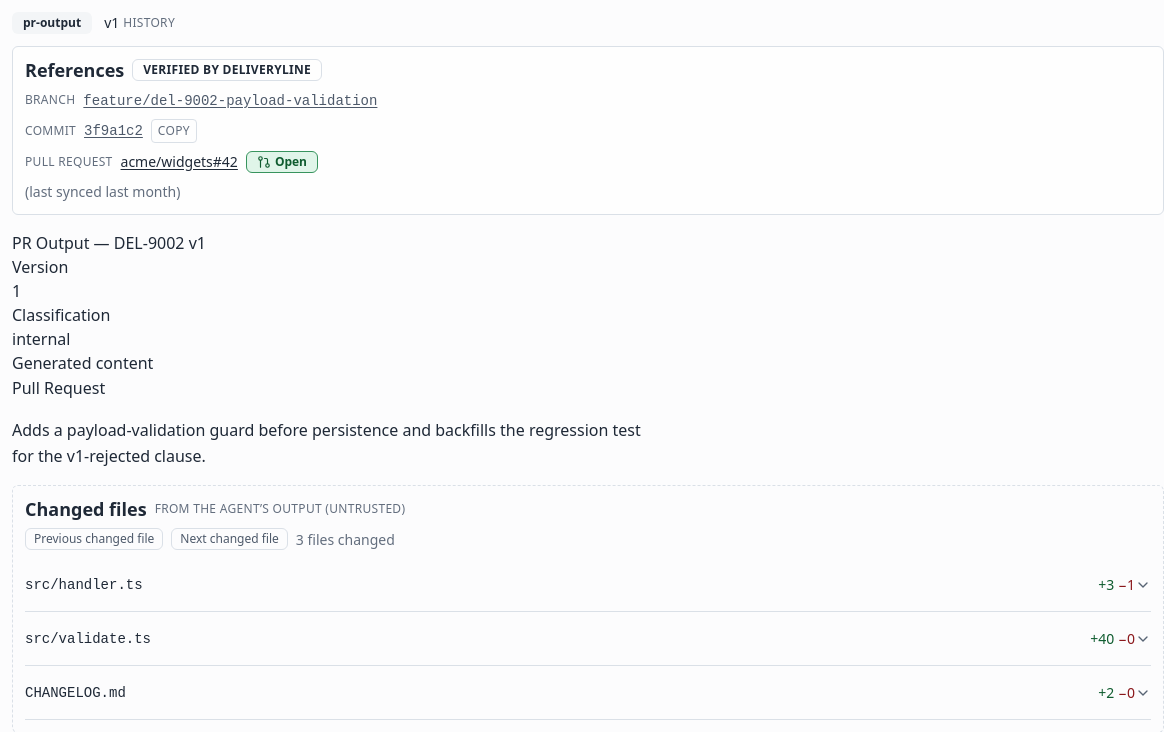
Test case: PrOutputArtifactRenderer › AC2 — the diff renders file-by-file with <ins>/<del> + token classes when expanded
The image size is (1164, 732).
Click the button with test id "pr-diff-file-trigger-0" at [84, 584], box left=25, top=558, right=1151, bottom=611
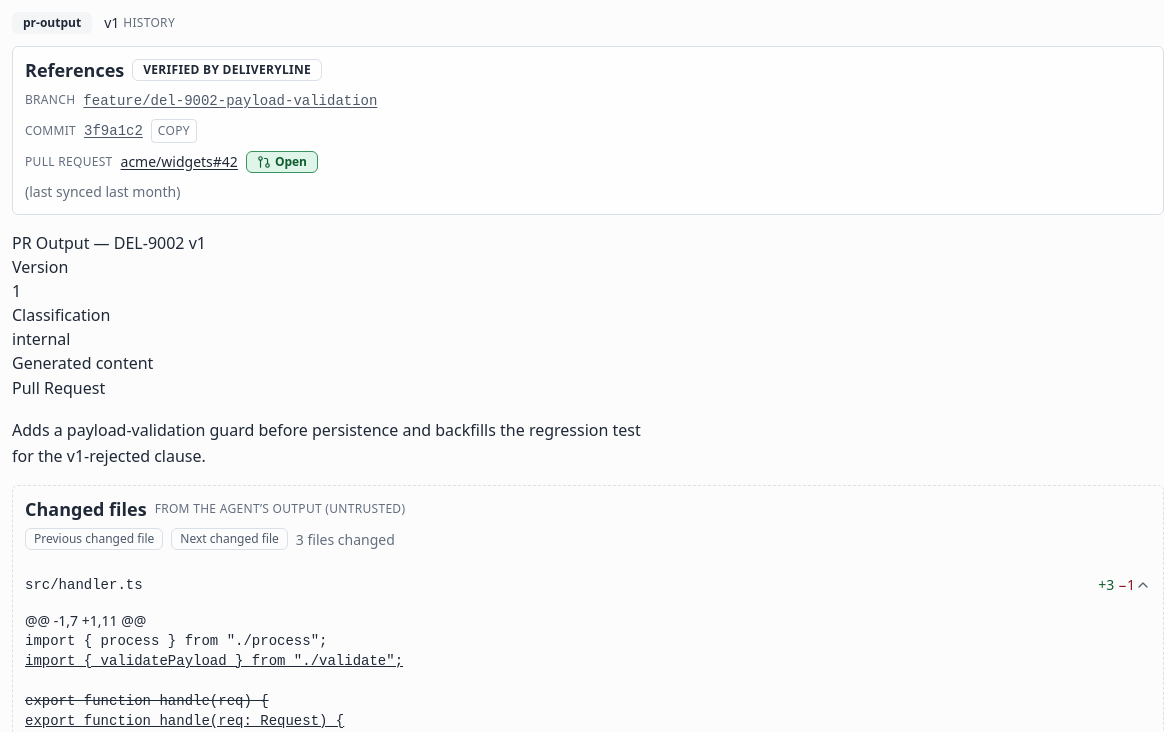
Expected: the 1st element with class "diff-line-added" is shown, left=25, top=653, right=403, bottom=669
Expected: the element with class "diff-line-removed" is shown, left=25, top=693, right=269, bottom=709
Expected: the element with class "diff-line-context" is shown, left=25, top=633, right=328, bottom=649
